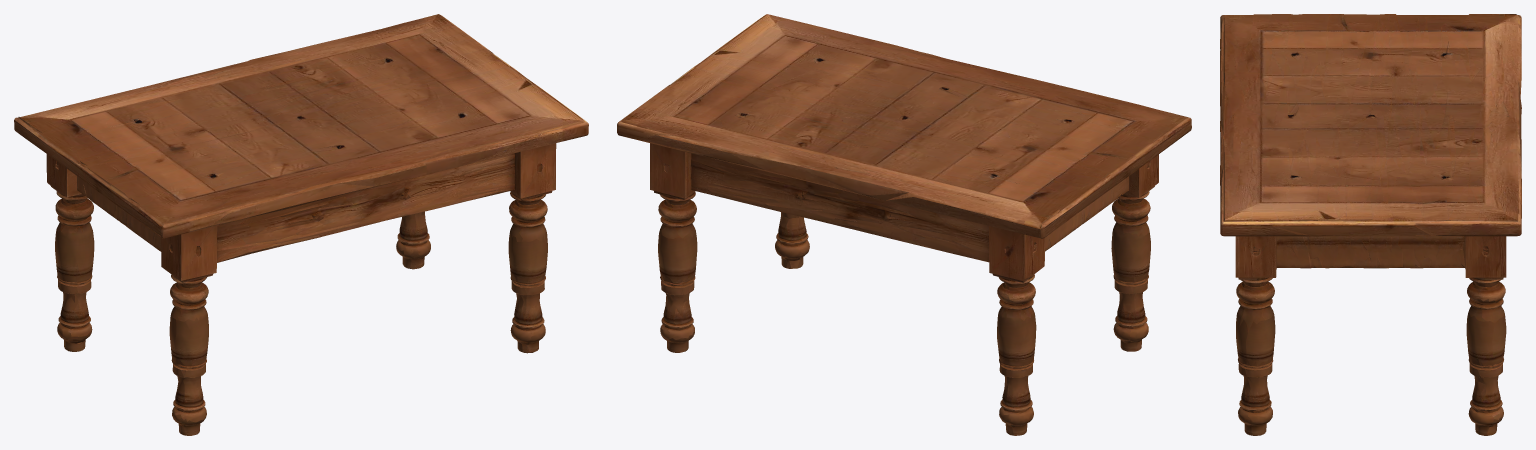
The model's file is farm_table.glb.
3 renders of one model, left to right at view 1: azimuth 30°, elevation 25°; view 2: azimuth 150°, elevation 25°; view 3: azimuth 270°, elevation 25°, orthographic.
Bounding box in the file's own units: 1.9 × 0.9846 × 1.15.
1 material, 1 textured.
